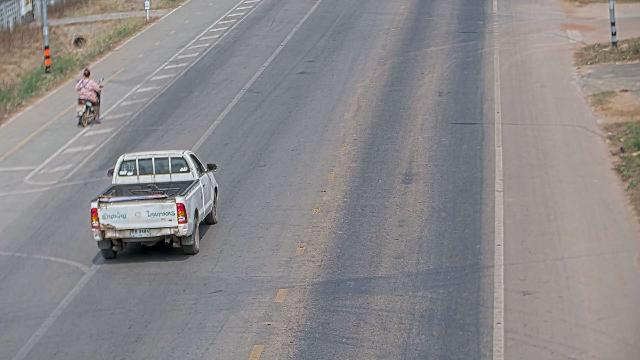motorcycle: (74, 75, 103, 127)
pickup-truck: (89, 149, 219, 259)
